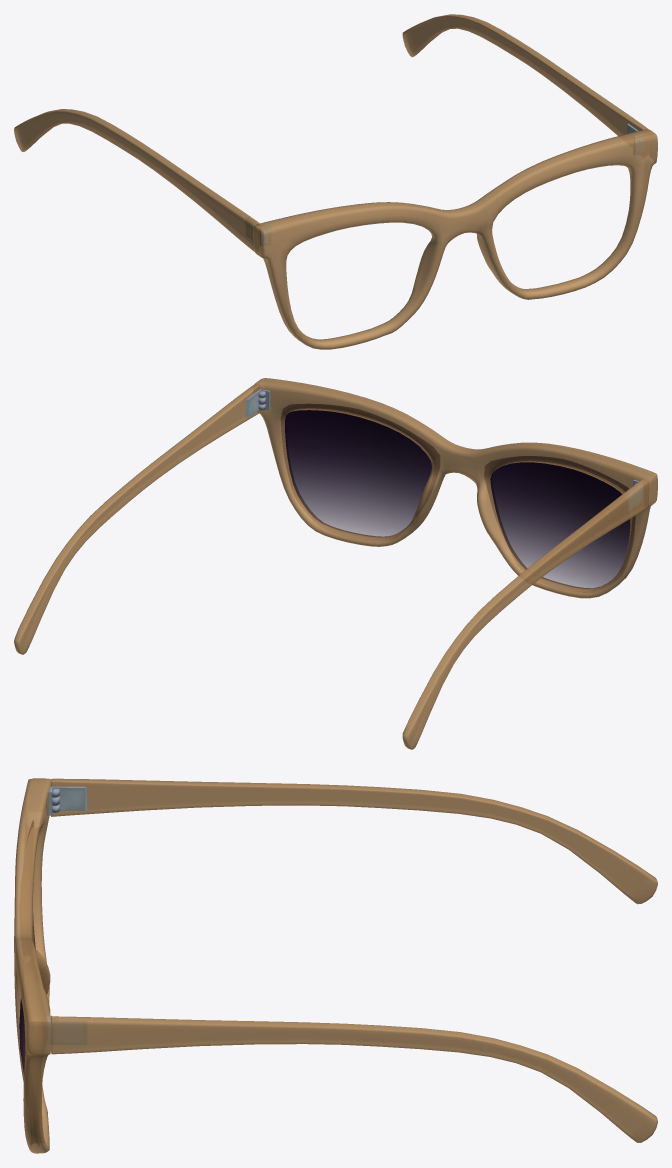
The model's file is inesta-fashion.glb.
3 renders of one model, top to bottom at view 1: azimuth 30°, elevation 25°; view 2: azimuth 150°, elevation 25°; view 3: azimuth 270°, elevation 25°, orthographic. The views are drawn at different scales.
Visible parts, largest first — view 1: Glass_07; view 2: Glass_07; view 3: Glass_07.
Boxes of the visible parts, <box> form: Glass_07: <box>14,14,657,349</box>; Glass_07: <box>14,378,657,749</box>; Glass_07: <box>14,778,657,1153</box>.
Size of the model in its own units: 0.1505 by 0.0514 by 0.1684.
Materials: 1 (1 with a texture image).
